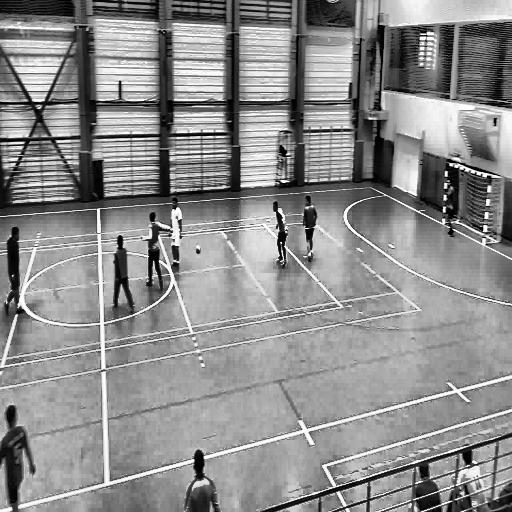ball: (194, 242, 203, 256)
player: (0, 401, 38, 512), (141, 213, 174, 294), (4, 226, 26, 320), (113, 232, 136, 316), (302, 194, 319, 266), (273, 197, 289, 272), (170, 196, 184, 270), (444, 179, 456, 238)
